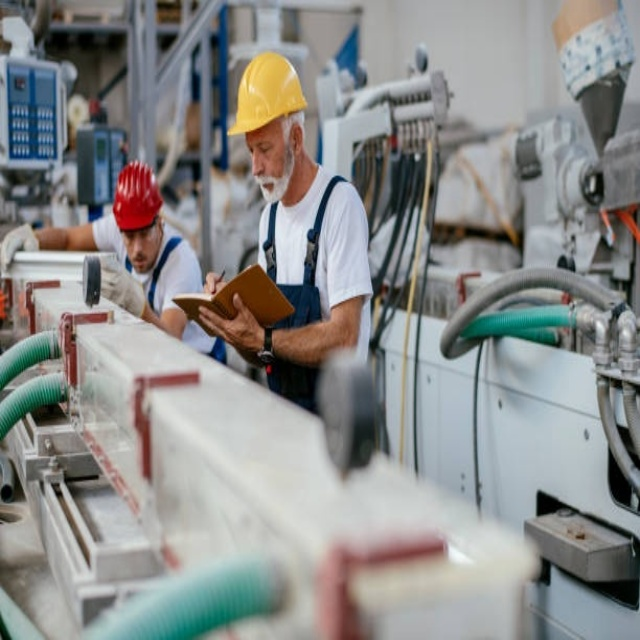Gafas: (118, 213, 159, 246)
Guantes: (98, 258, 147, 320), (0, 223, 39, 272)
Sin_gafas: (245, 132, 285, 157)
Sin_guantes: (197, 287, 264, 356)
Sin_mascara: (255, 169, 283, 202), (129, 248, 150, 271)
